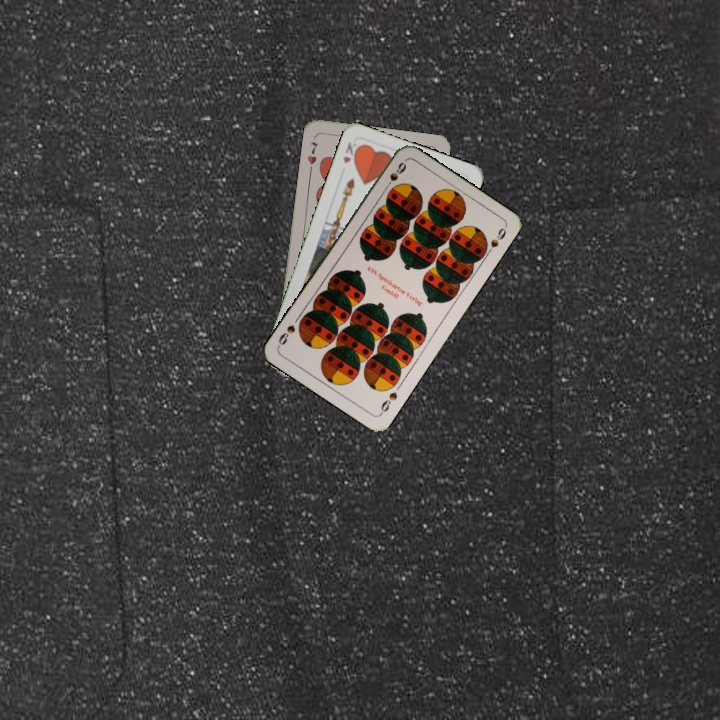H7: (303, 138, 321, 167)
HK: (339, 137, 362, 166)
S9: (380, 158, 409, 194), (376, 388, 400, 417)
